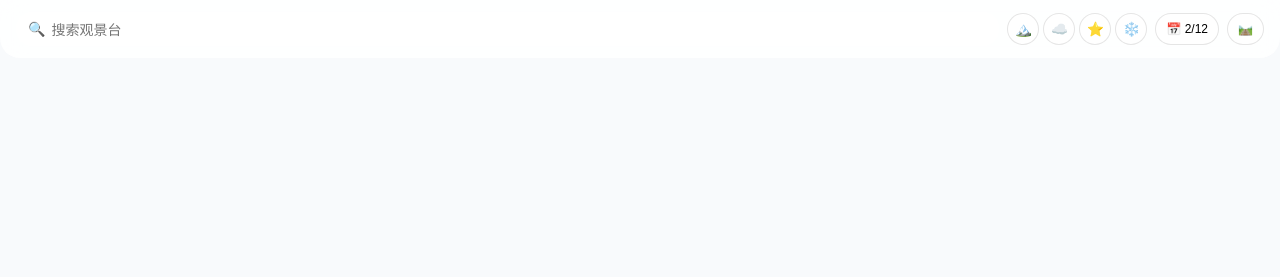
it: MapTopBar › limits search results to 5 items
In the field with placeholder "搜索观景台": (519,29) [52, 21, 987, 38], type "观景台"
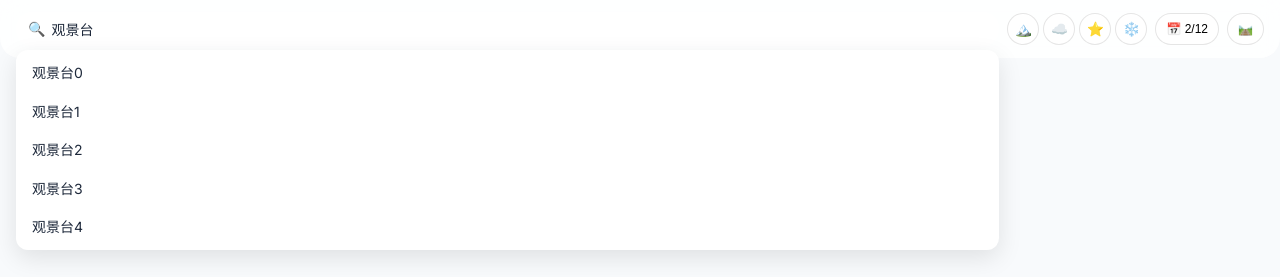
Expected: the number of list items is 5, [32, 64, 83, 81]; [32, 103, 80, 120]; [32, 141, 82, 158]; [32, 180, 83, 197]; [32, 218, 83, 235]
